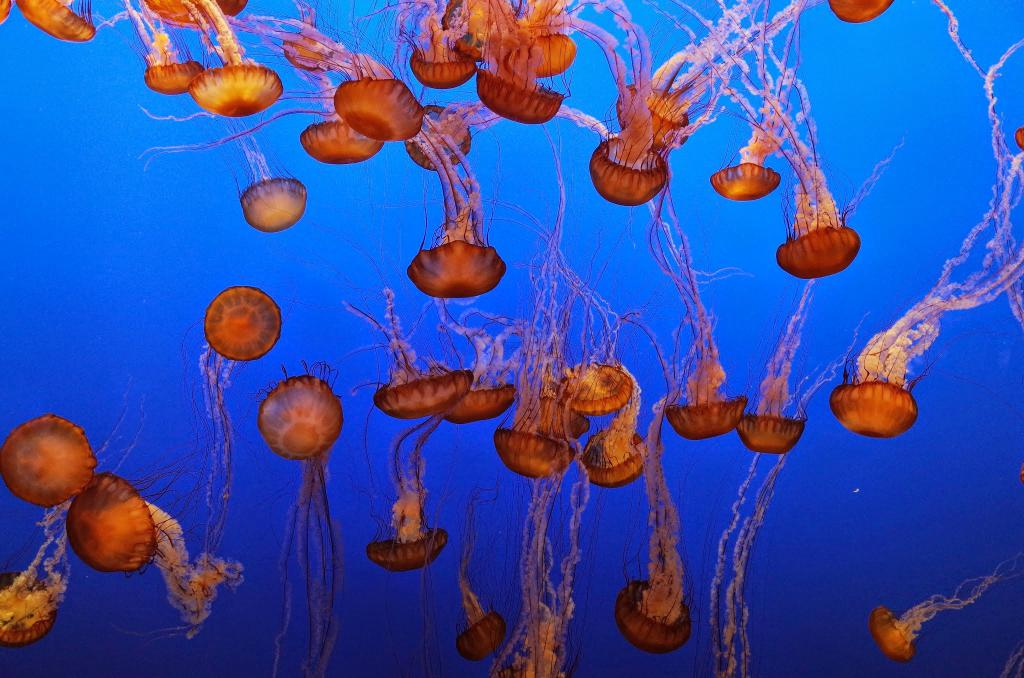Jellyfish: (0, 0, 1023, 677), (179, 282, 286, 556)
